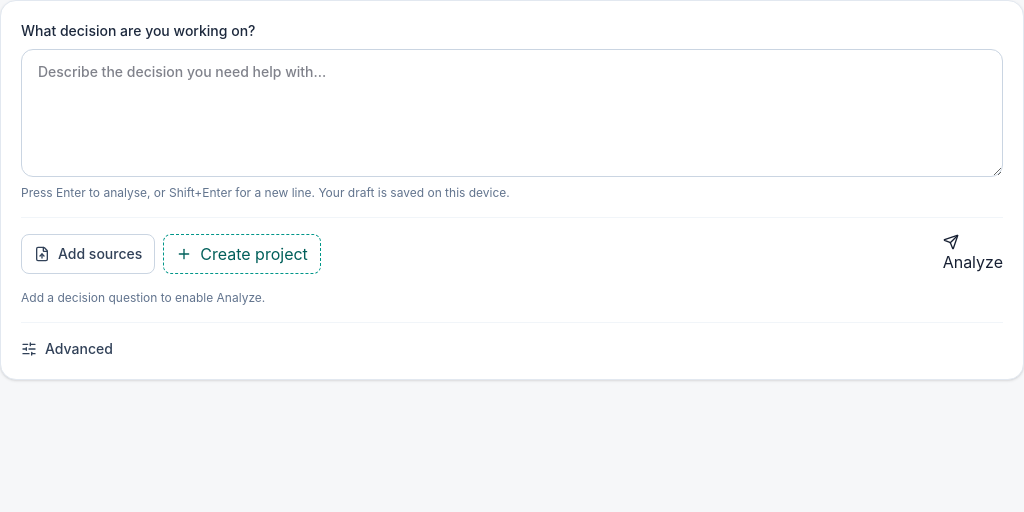
AnalysisComposer › keeps Advanced closed by default and lets a new user create a project inline
The width and height of the screenshot is (1024, 512).
Click the button "Create project".
click(242, 254)  # box x1=163 y1=234 x2=321 y2=274
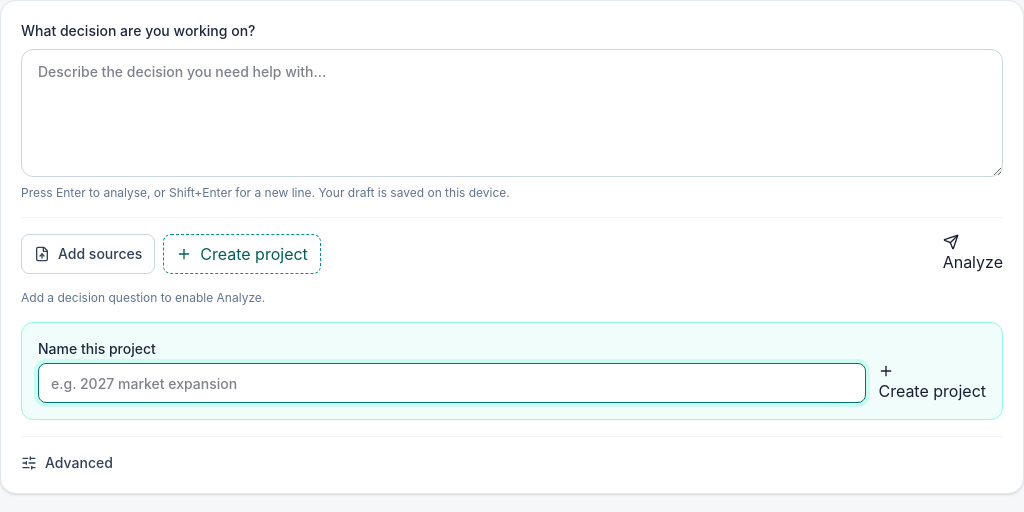
Expected: the field labelled "Name this project" is shown, x1=38 y1=363 x2=866 y2=403
